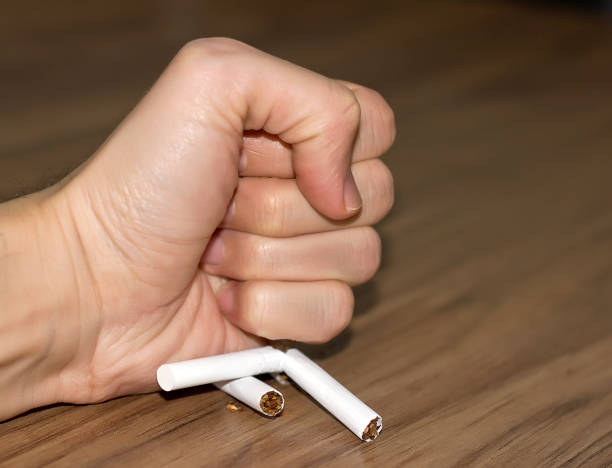cigarette: (283, 348, 384, 445), (154, 346, 287, 392), (212, 375, 286, 418)
